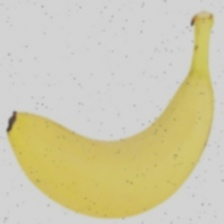banana: (35, 34, 224, 190)
